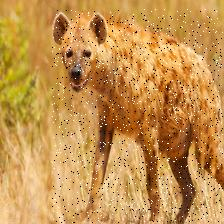hyena: (52, 9, 224, 224)
